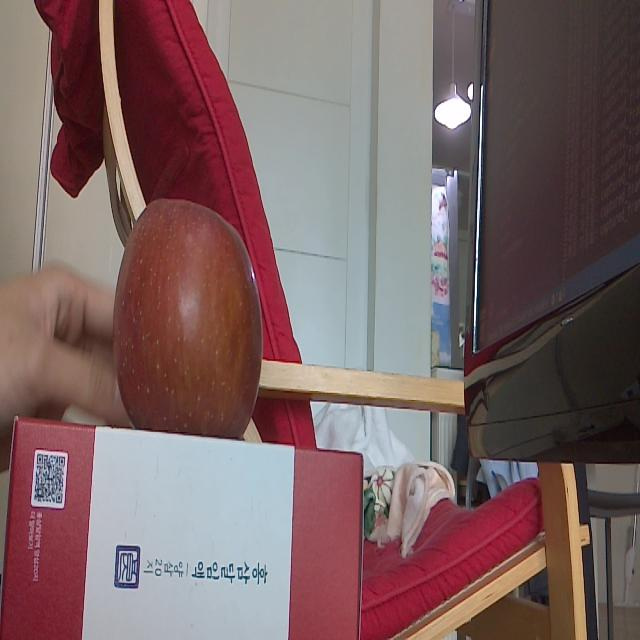apple: (114, 192, 264, 422)
